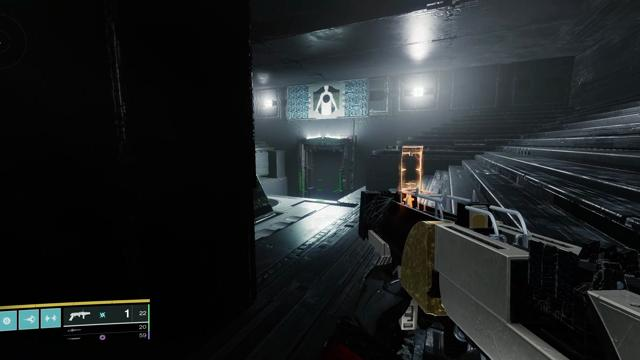grief: (314, 85, 340, 115)
